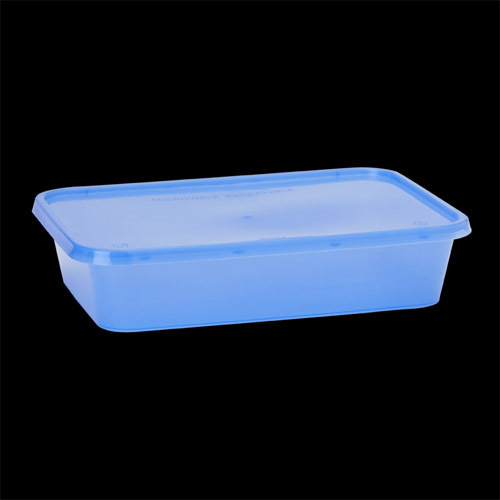PlasticBox: (26, 160, 476, 338)
